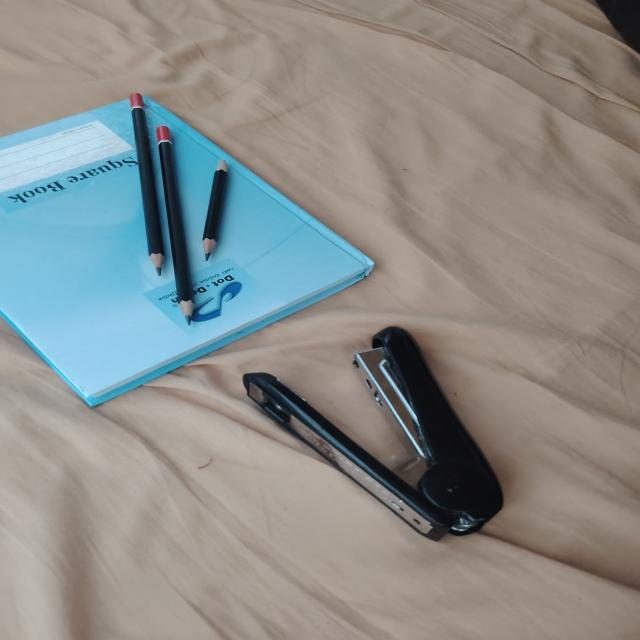pencil: (157, 126, 194, 324), (129, 93, 165, 275), (202, 160, 228, 261)
stapler: (243, 327, 503, 540)
